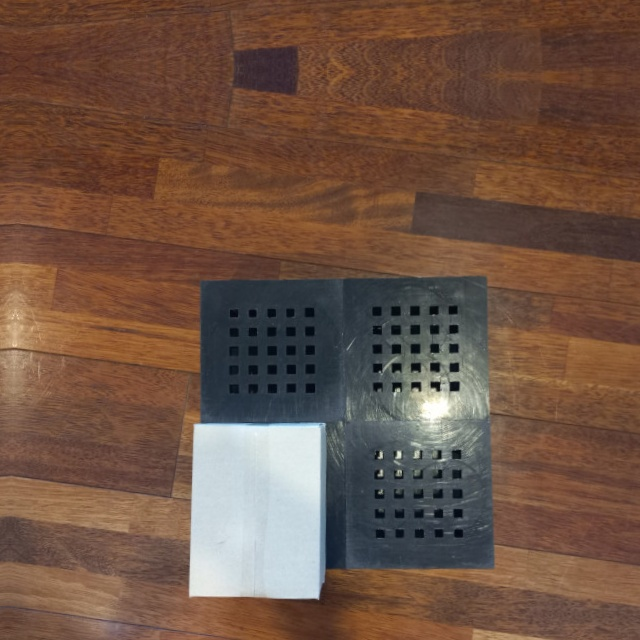box: (189, 422, 326, 600)
pallet: (190, 273, 494, 596)
